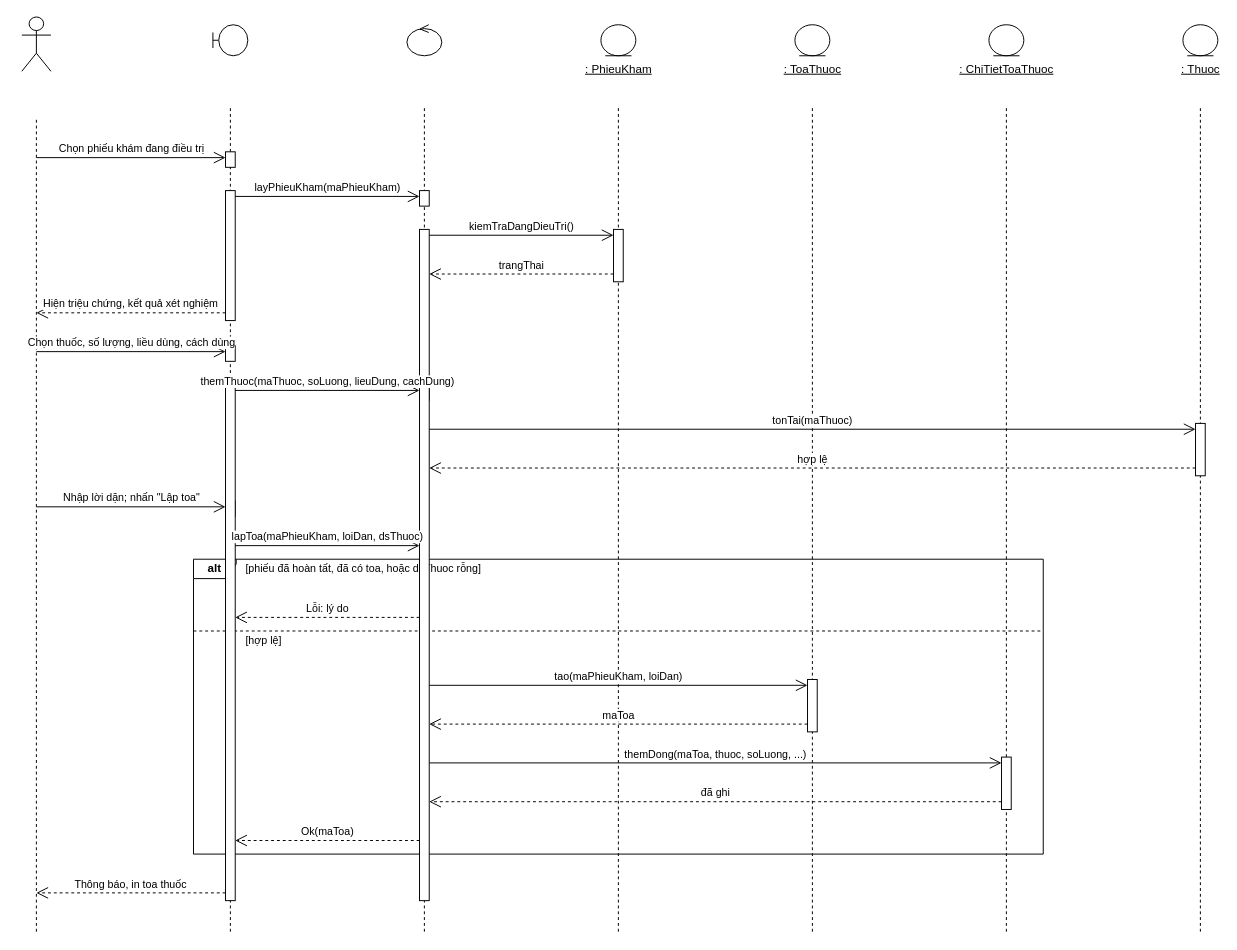
Image size: 1237x950. Some labels were removed from this diagram. The centre of each missing label's shape, as x and y in pixels:
": Bác sĩ" goes at point 36,43.
": Màn hình lập toa" goes at point 230,40.
": Điều khiển khám bệnh" goes at point 424,40.
